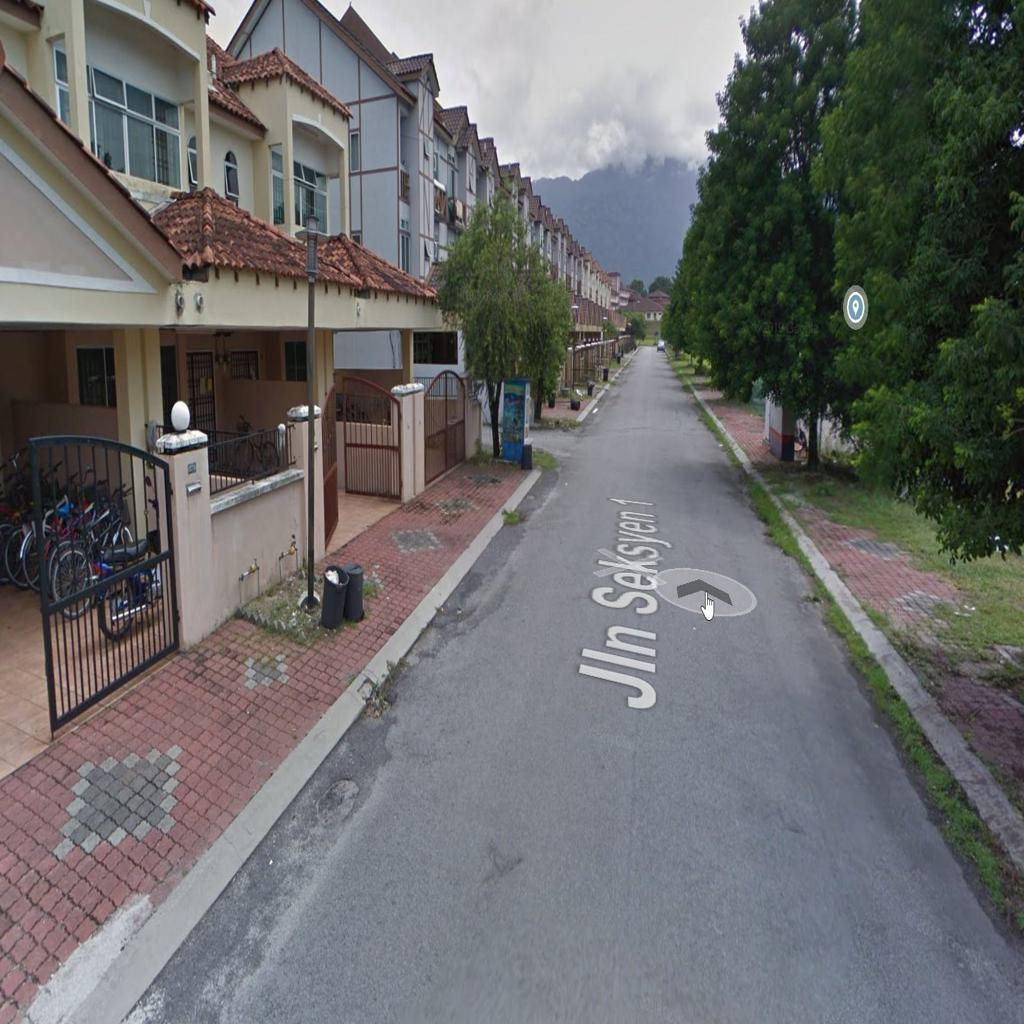Junction: (479, 403, 647, 504)
